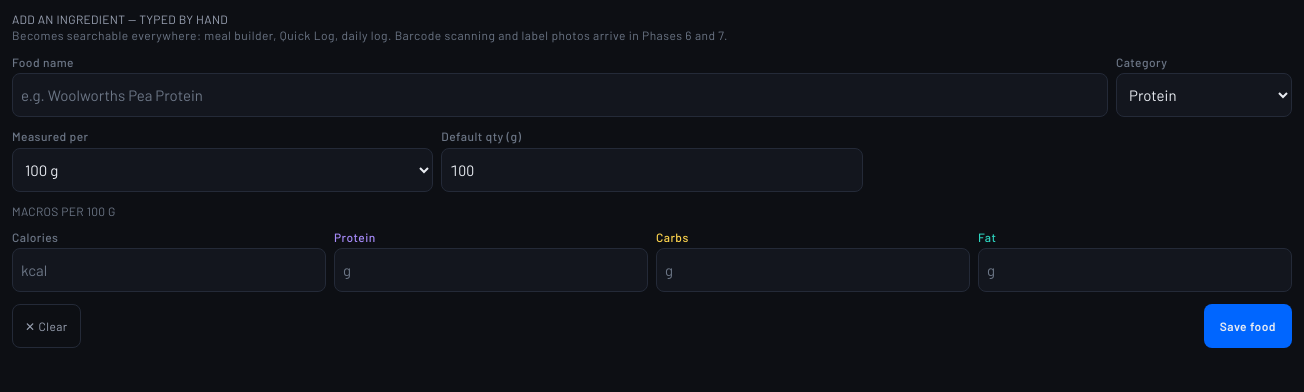
Test: AddCustomFood — SA comma decimals › requires a name and calories
The width and height of the screenshot is (1304, 392).
Click the button "Save food". click: (1248, 326)
box: left=1204, top=304, right=1292, bottom=348
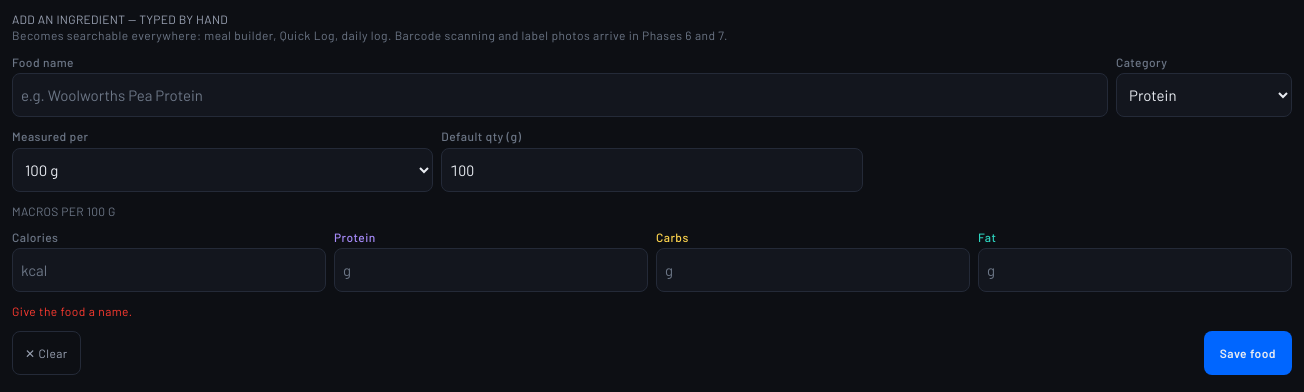
Check: the text "Give the food a name" is shown, box left=12, top=304, right=132, bottom=318
Type "Nameless no more" into the field labelled "Food name". click: (560, 95)
box: left=12, top=73, right=1108, bottom=117
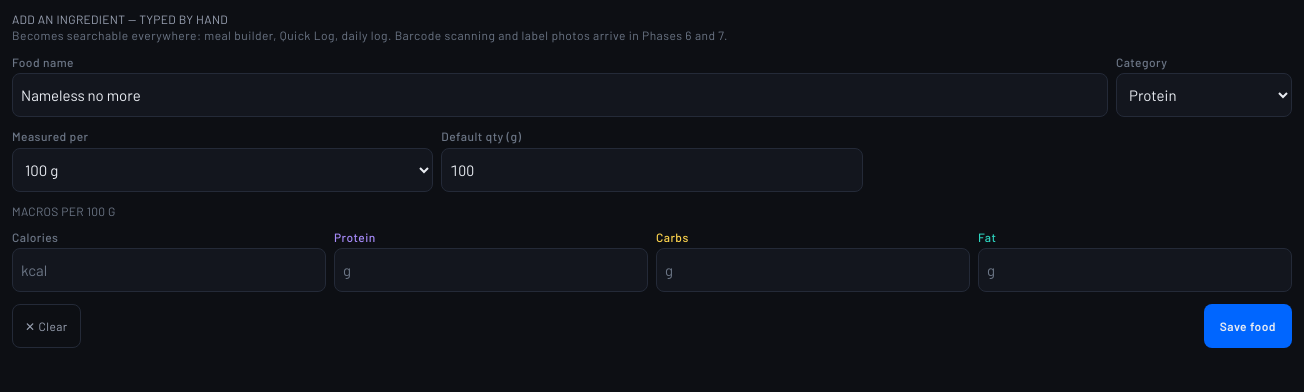
Click the button "Save food". click: (1248, 326)
box: left=1204, top=304, right=1292, bottom=348
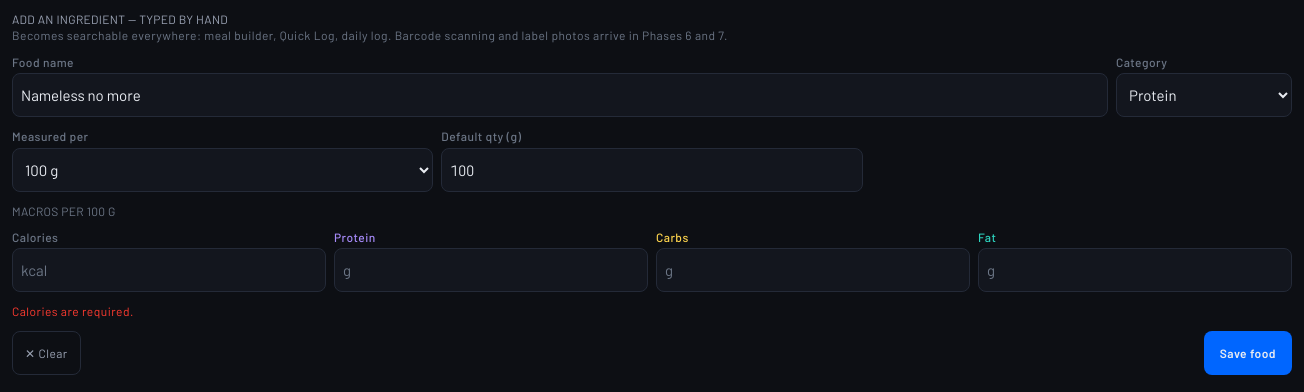
Check: the text "Calories are required" is shown, box left=12, top=304, right=134, bottom=318
